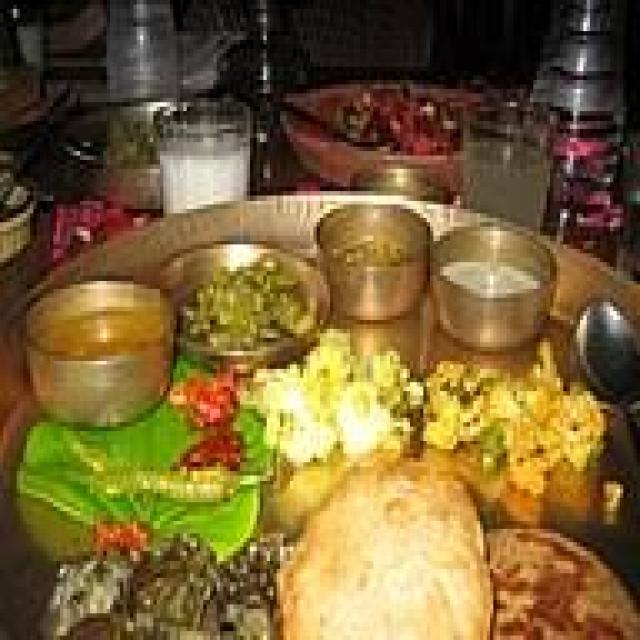papad: (275, 473, 486, 639)
rice: (420, 347, 611, 517)
roti: (481, 526, 632, 638)
